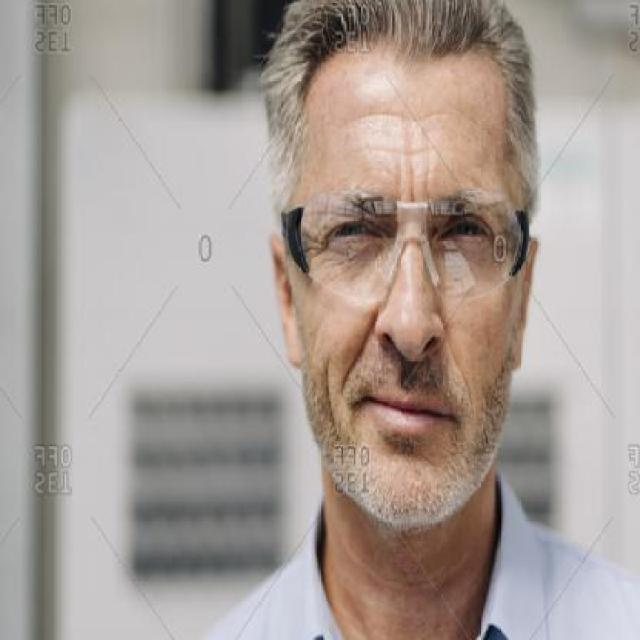face_nomask: (292, 195, 518, 458)
glasses: (280, 190, 532, 292)
head_nohelmet: (260, 0, 542, 134)
